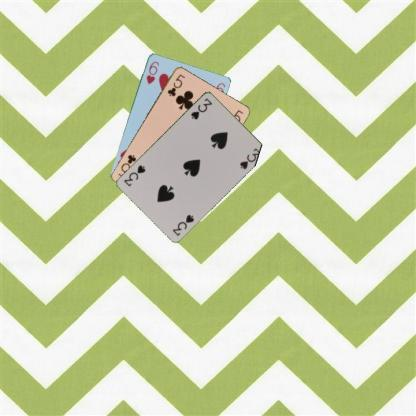3s: (188, 96, 214, 121), (170, 212, 196, 236)
5c: (164, 72, 186, 98)
6h: (144, 58, 160, 86)
